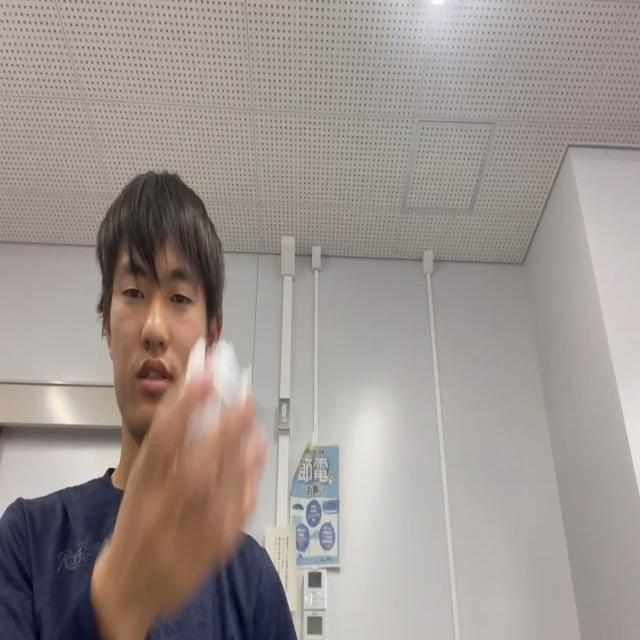paper: (182, 336, 250, 449)
